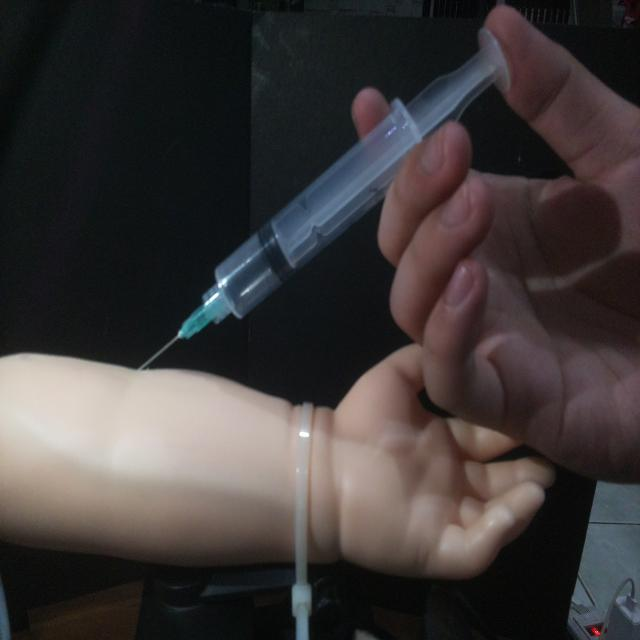28deg: (132, 24, 514, 373)
